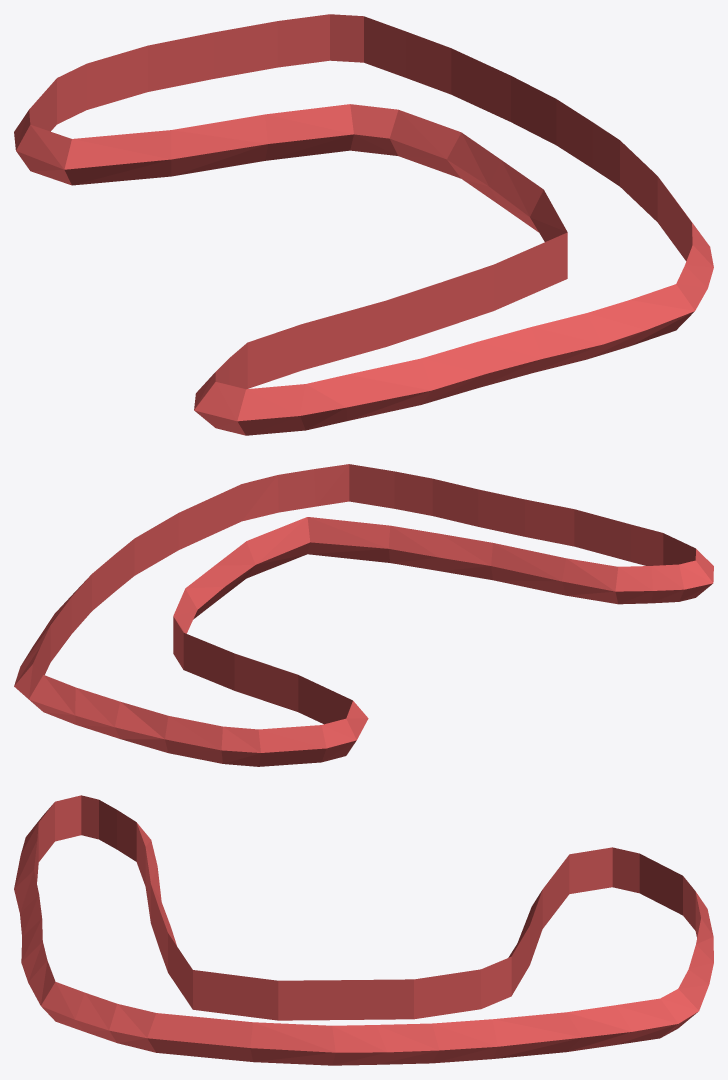
Rendered from test_outline.glb.
3 views of the same model, one above another, from view 1: azimuth 30°, elevation 25°; view 2: azimuth 150°, elevation 25°; view 3: azimuth 270°, elevation 25° (orthographic). The views are drawn at different scales.
Visible parts, largest first — view 1: Rectangle001; view 2: Rectangle001; view 3: Rectangle001.
Part boxes in pixels (box(x1,y1,x2,y2)): Rectangle001: box(14, 14, 713, 435); Rectangle001: box(14, 464, 713, 766); Rectangle001: box(14, 795, 713, 1065).
Bounding box in the file's own units: 1.1 × 0.083 × 1.32.
